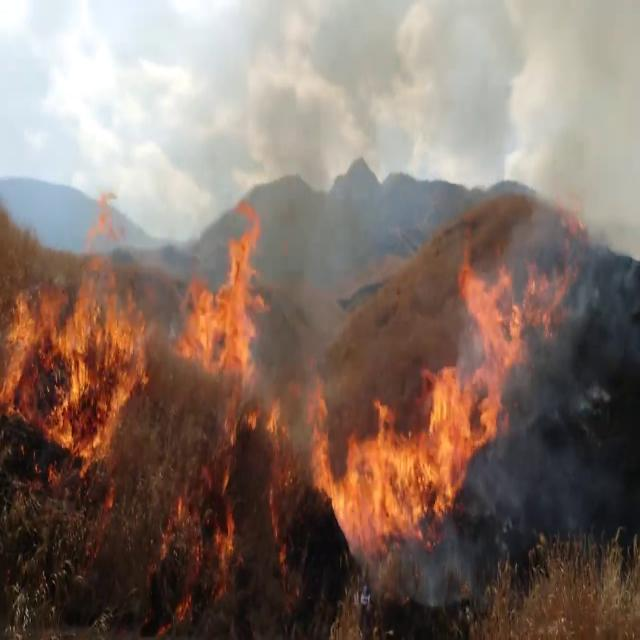Fire: (303, 250, 529, 554), (0, 214, 152, 463), (456, 237, 572, 416), (176, 197, 272, 382)
